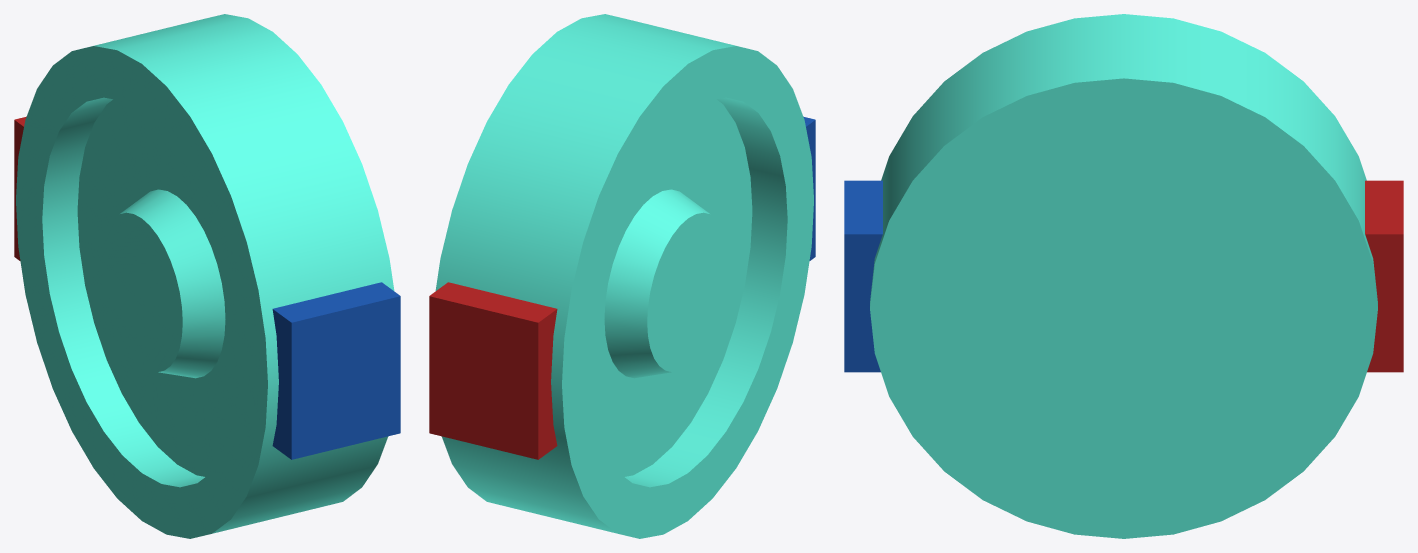
File: Servo_Physics.obj
3 views of the same model, side by side, from view 1: azimuth 30°, elevation 25°; view 2: azimuth 150°, elevation 25°; view 3: azimuth 270°, elevation 25° (orthographic).
Parts seen in each view (by area): view 1: Handle, Forwards, Backwards; view 2: Handle, Backwards, Forwards; view 3: Handle, Backwards, Forwards.
Boxes of the visible parts, x1,y1,x2,y2 form: Handle: [16, 14, 394, 538]; Forwards: [272, 282, 400, 459]; Backwards: [14, 116, 26, 260]; Handle: [435, 14, 813, 538]; Backwards: [429, 282, 557, 459]; Forwards: [803, 116, 815, 260]; Handle: [870, 14, 1377, 538]; Backwards: [1365, 180, 1403, 372]; Forwards: [844, 180, 882, 372].
Size of the model in its own units: 0.3 by 1 by 1.1.
